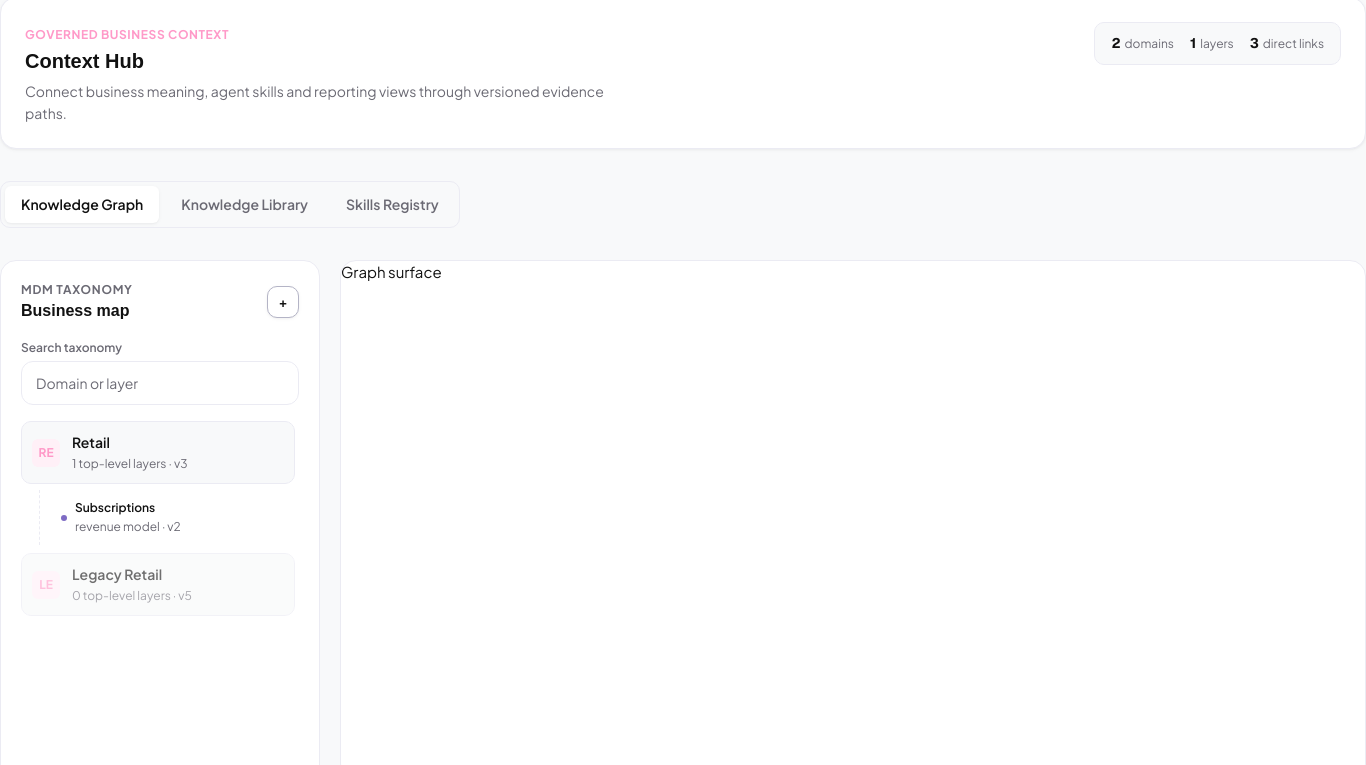
Scenario: a convergence refusal names the convergence, not a phantom concurrent editor
Click the button "LE Legacy Retail 0 top-level layers · v5".
click(158, 585)  # box left=21, top=553, right=295, bottom=616
(page scrolled)
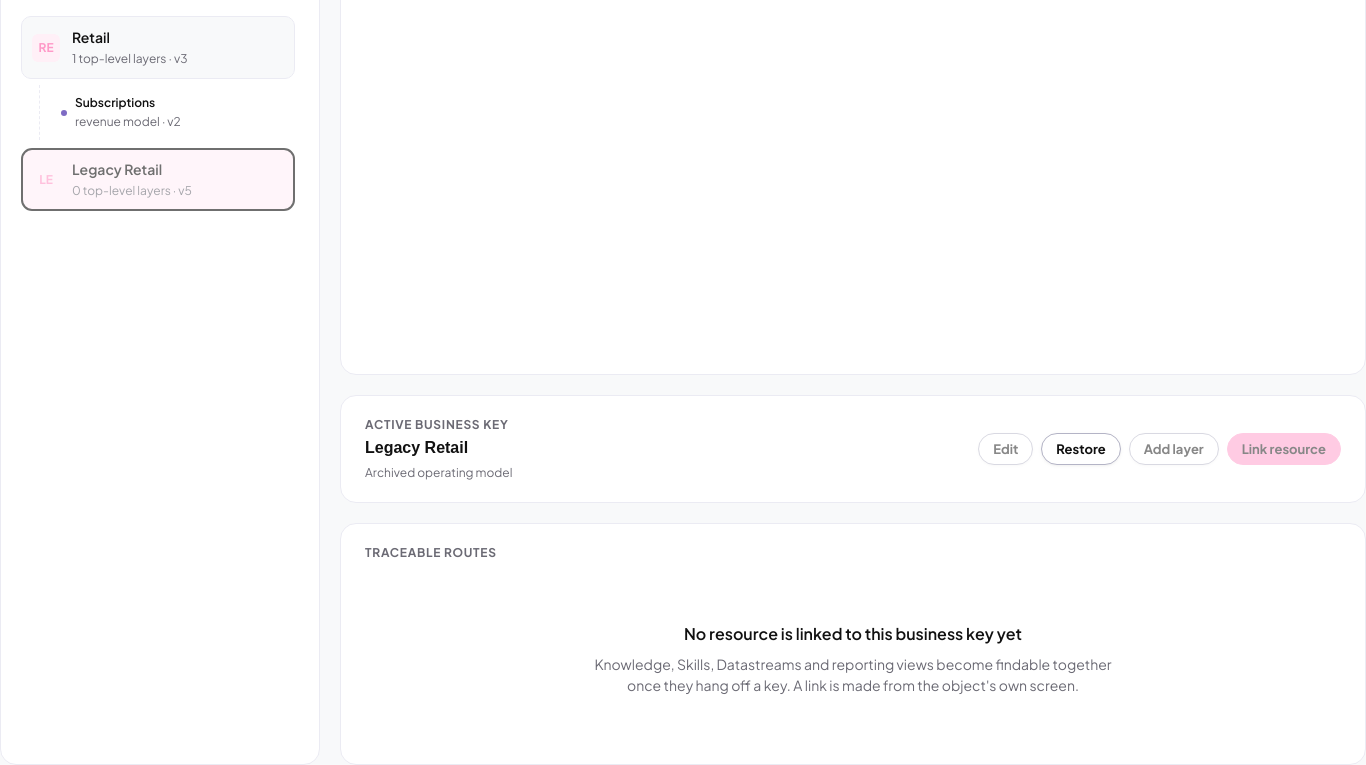
Click the button "Restore".
click(1081, 449)  # box left=1041, top=433, right=1121, bottom=465
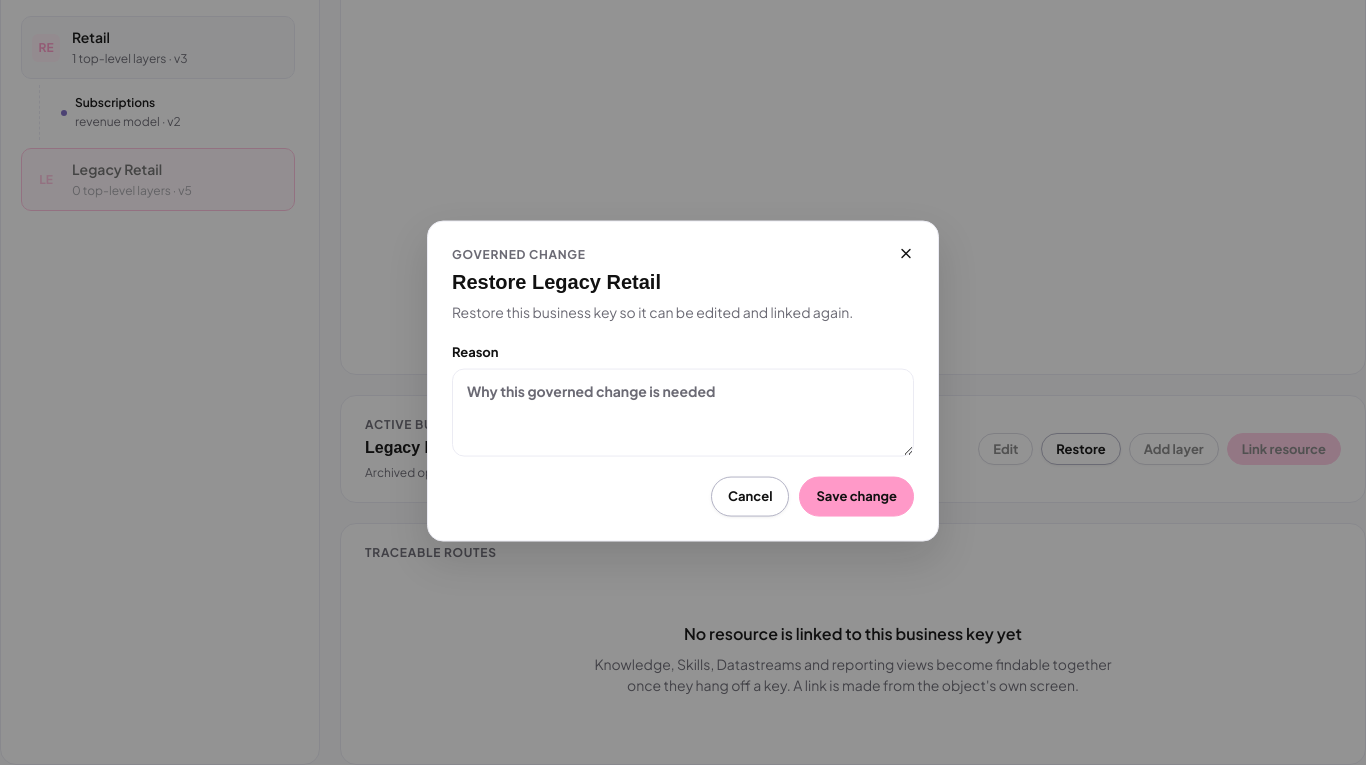
Type "Return this domain to active governance" into the text box labelled "Reason".
click(683, 412); type("Return this domain to active governance")  # box left=452, top=368, right=914, bottom=456
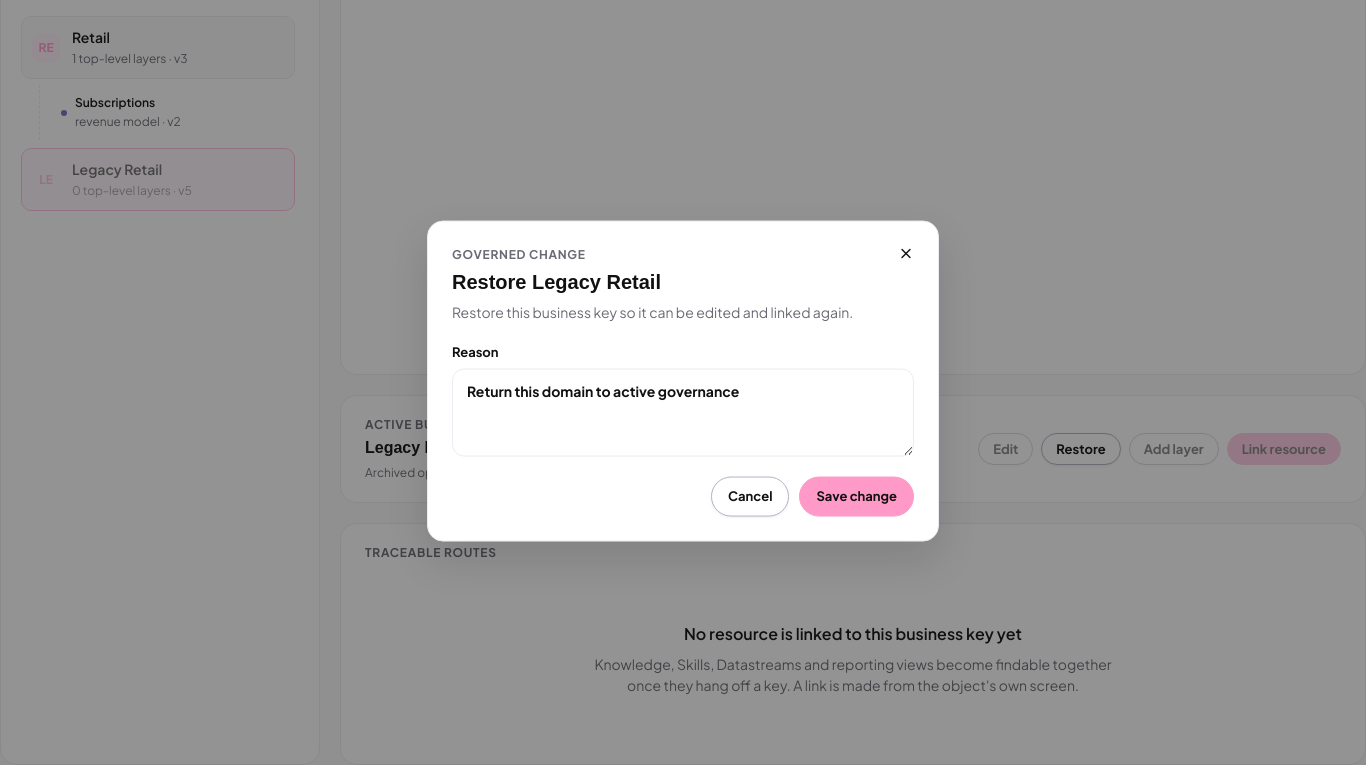
Click the button "Save change".
click(857, 496)  # box left=799, top=476, right=914, bottom=516
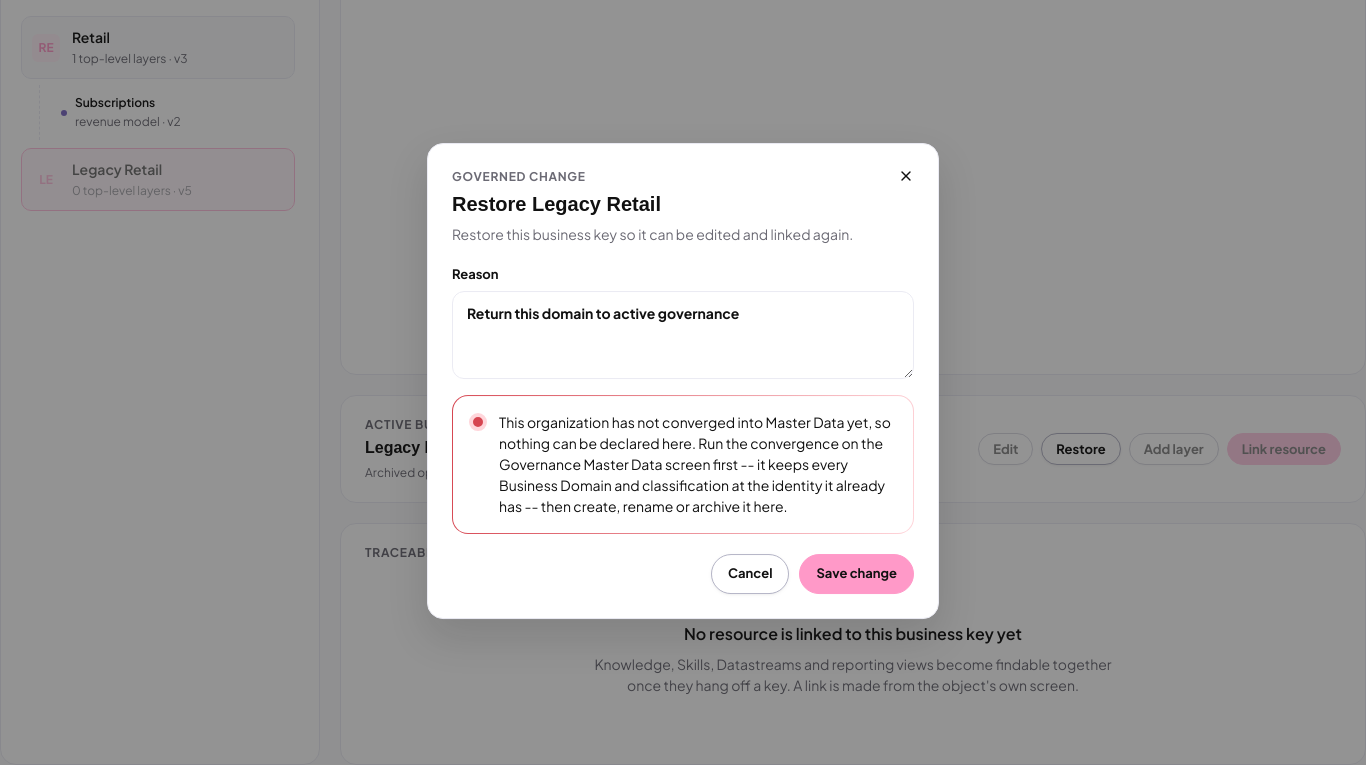
Result: the text "Run the convergence on the Governance Master Data screen first" is shown at left=499, top=413, right=891, bottom=515
